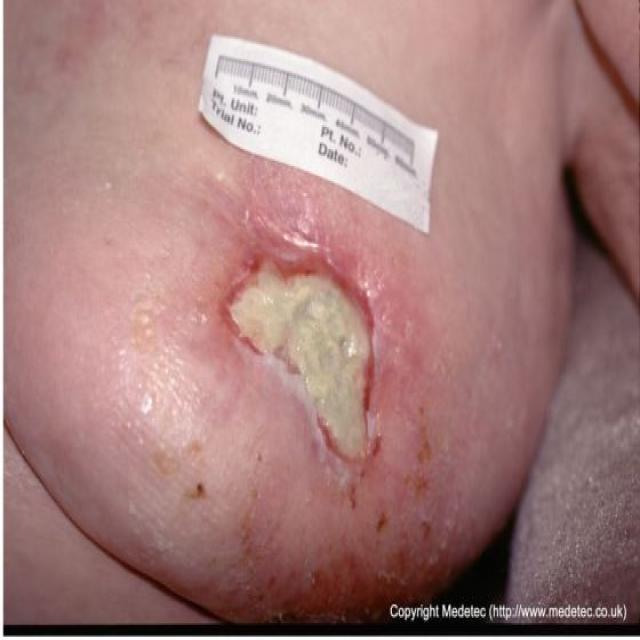wound: (223, 250, 377, 466)
